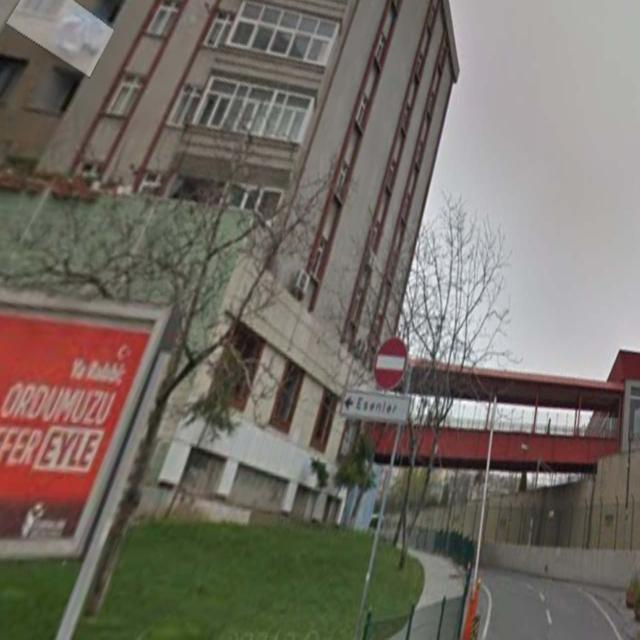girisyok: (376, 335, 406, 392)
